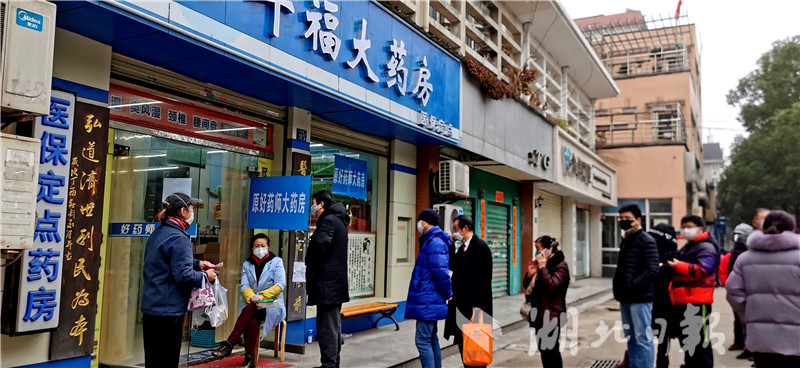rightmask: (612, 203, 645, 239), (247, 233, 273, 267)
